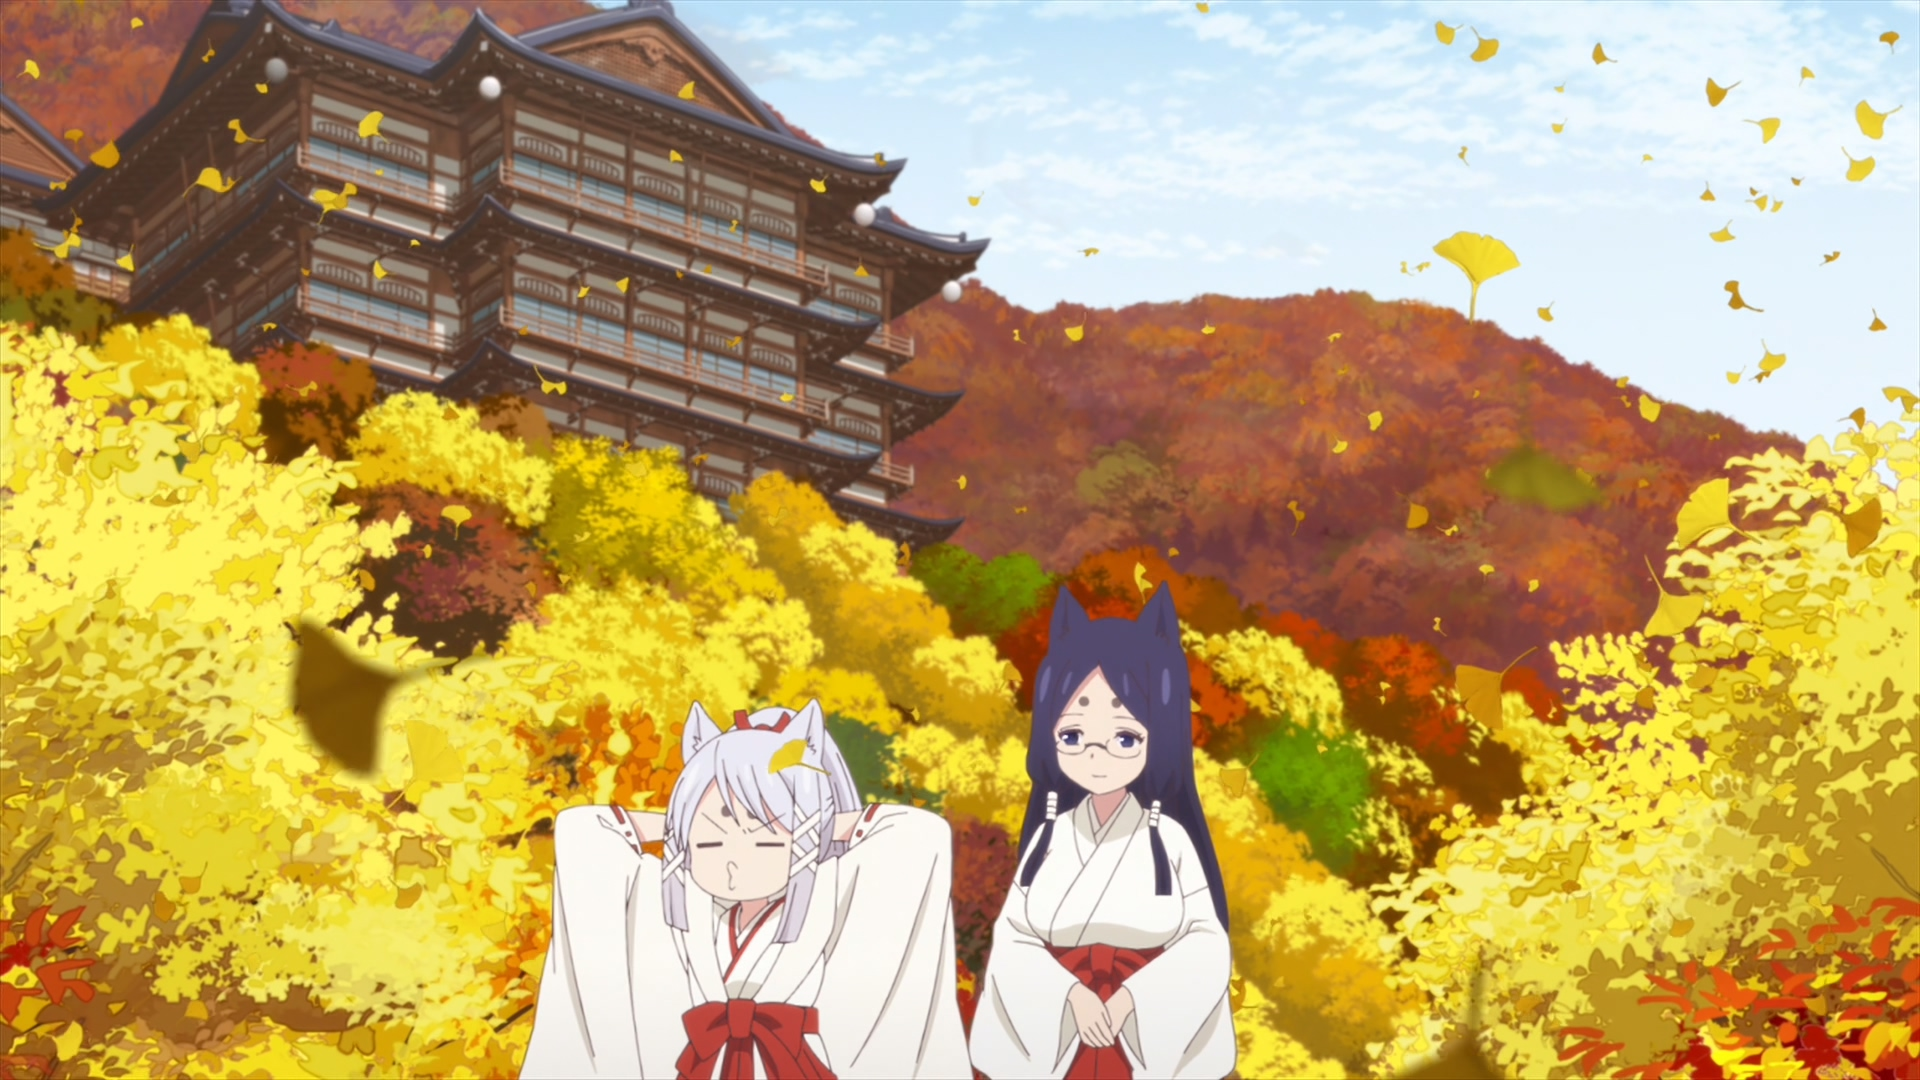柊: (520, 700, 971, 1080)
菖: (971, 579, 1236, 1080)
